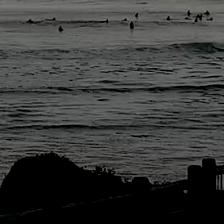surfer: (22, 19, 40, 24), (46, 17, 56, 21), (99, 19, 109, 23), (58, 26, 64, 32), (130, 21, 134, 29), (196, 13, 202, 18), (204, 10, 210, 15), (121, 18, 128, 22), (207, 17, 214, 21), (187, 10, 191, 16), (166, 16, 171, 20), (198, 16, 202, 21), (184, 17, 190, 20), (135, 12, 138, 17), (195, 18, 198, 22)
